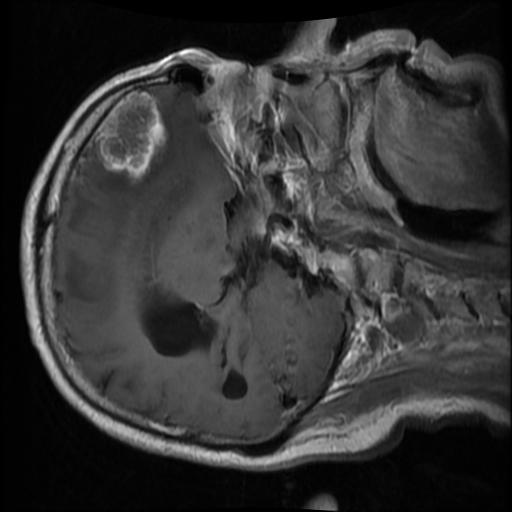meningioma: (95, 90, 169, 181)
